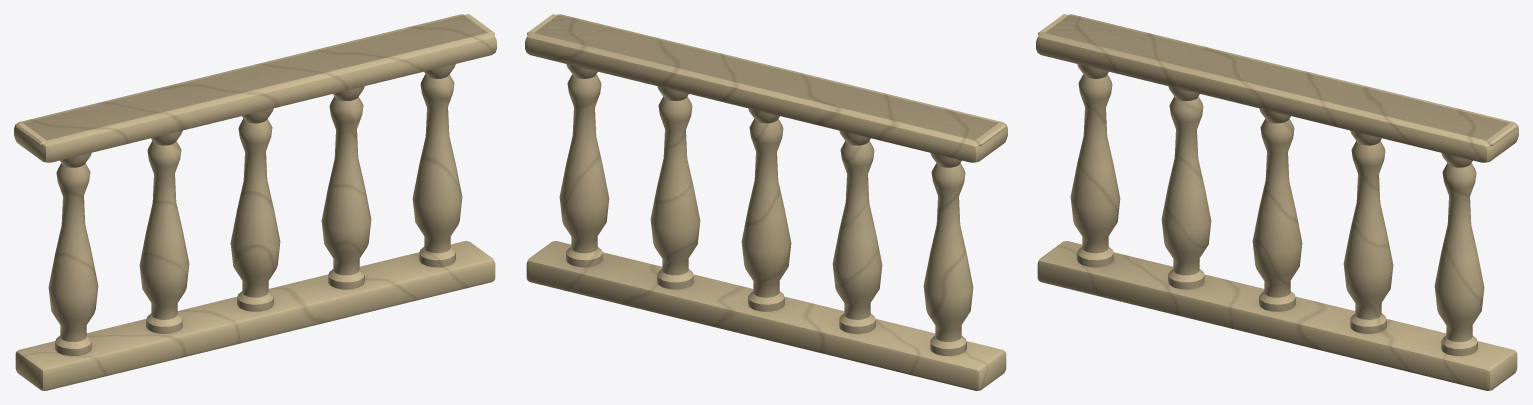
The model's file is balustrade.glb.
The picture shows the model from 3 angles, left to right: view 1: azimuth 30°, elevation 25°; view 2: azimuth 150°, elevation 25°; view 3: azimuth 330°, elevation 25°; orthographic projection.
Visible parts, largest first — view 1: balustrade; view 2: balustrade; view 3: balustrade.
Boxes of the visible parts, left/top/right/bottom form: balustrade: left=14, top=14, right=496, bottom=390; balustrade: left=525, top=14, right=1007, bottom=390; balustrade: left=1036, top=14, right=1518, bottom=390.
Size of the model in its own units: 2 by 1.05 by 0.26.
Materials: 1 (1 with a texture image).
